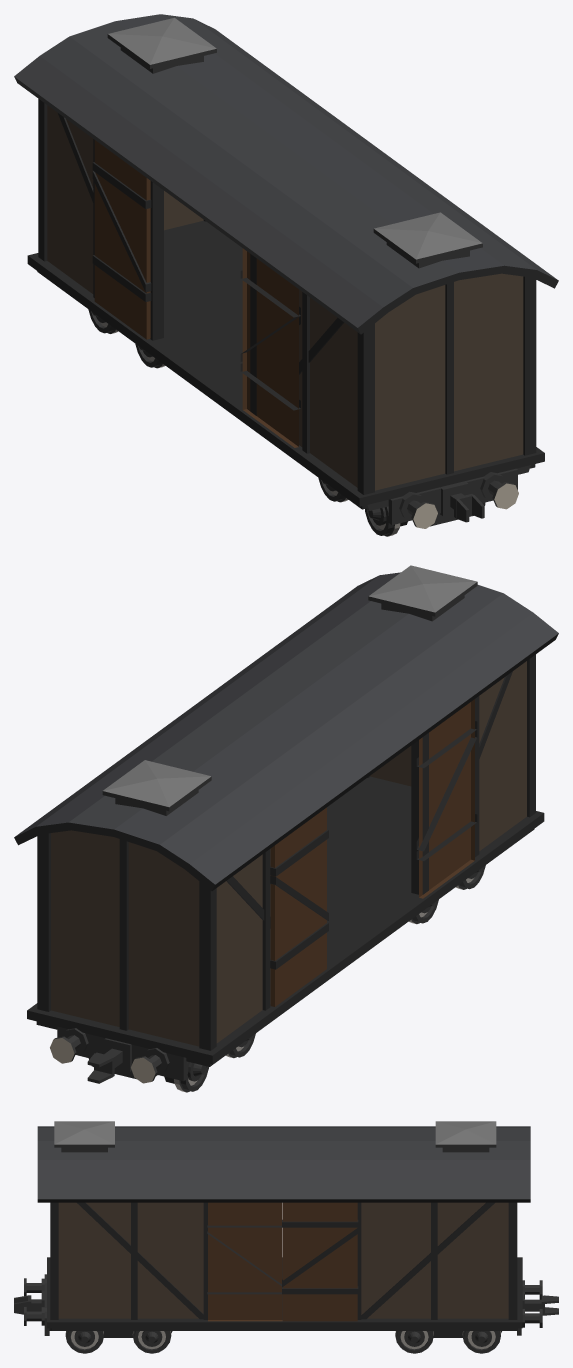
The model's file is Train Car.glb.
3 renders of one model, top to bottom at view 1: azimuth 30°, elevation 25°; view 2: azimuth 150°, elevation 25°; view 3: azimuth 270°, elevation 25°, orthographic. The views are drawn at different scales.
Parts seen in each view (by area): view 1: Train Car; view 2: Train Car; view 3: Train Car.
Boxes of the visible parts, left/top/right/bottom form: Train Car: left=14, top=14, right=558, bottom=536; Train Car: left=14, top=565, right=558, bottom=1092; Train Car: left=14, top=1121, right=558, bottom=1353.
Size of what is drawn, in the model's own units: 3.1 by 4.3 by 10.13.
Materials: 1 (1 with a texture image).
